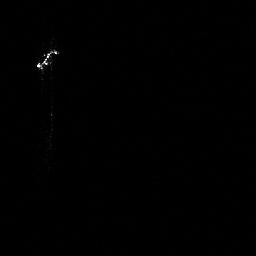ship: (36, 47, 59, 71)
